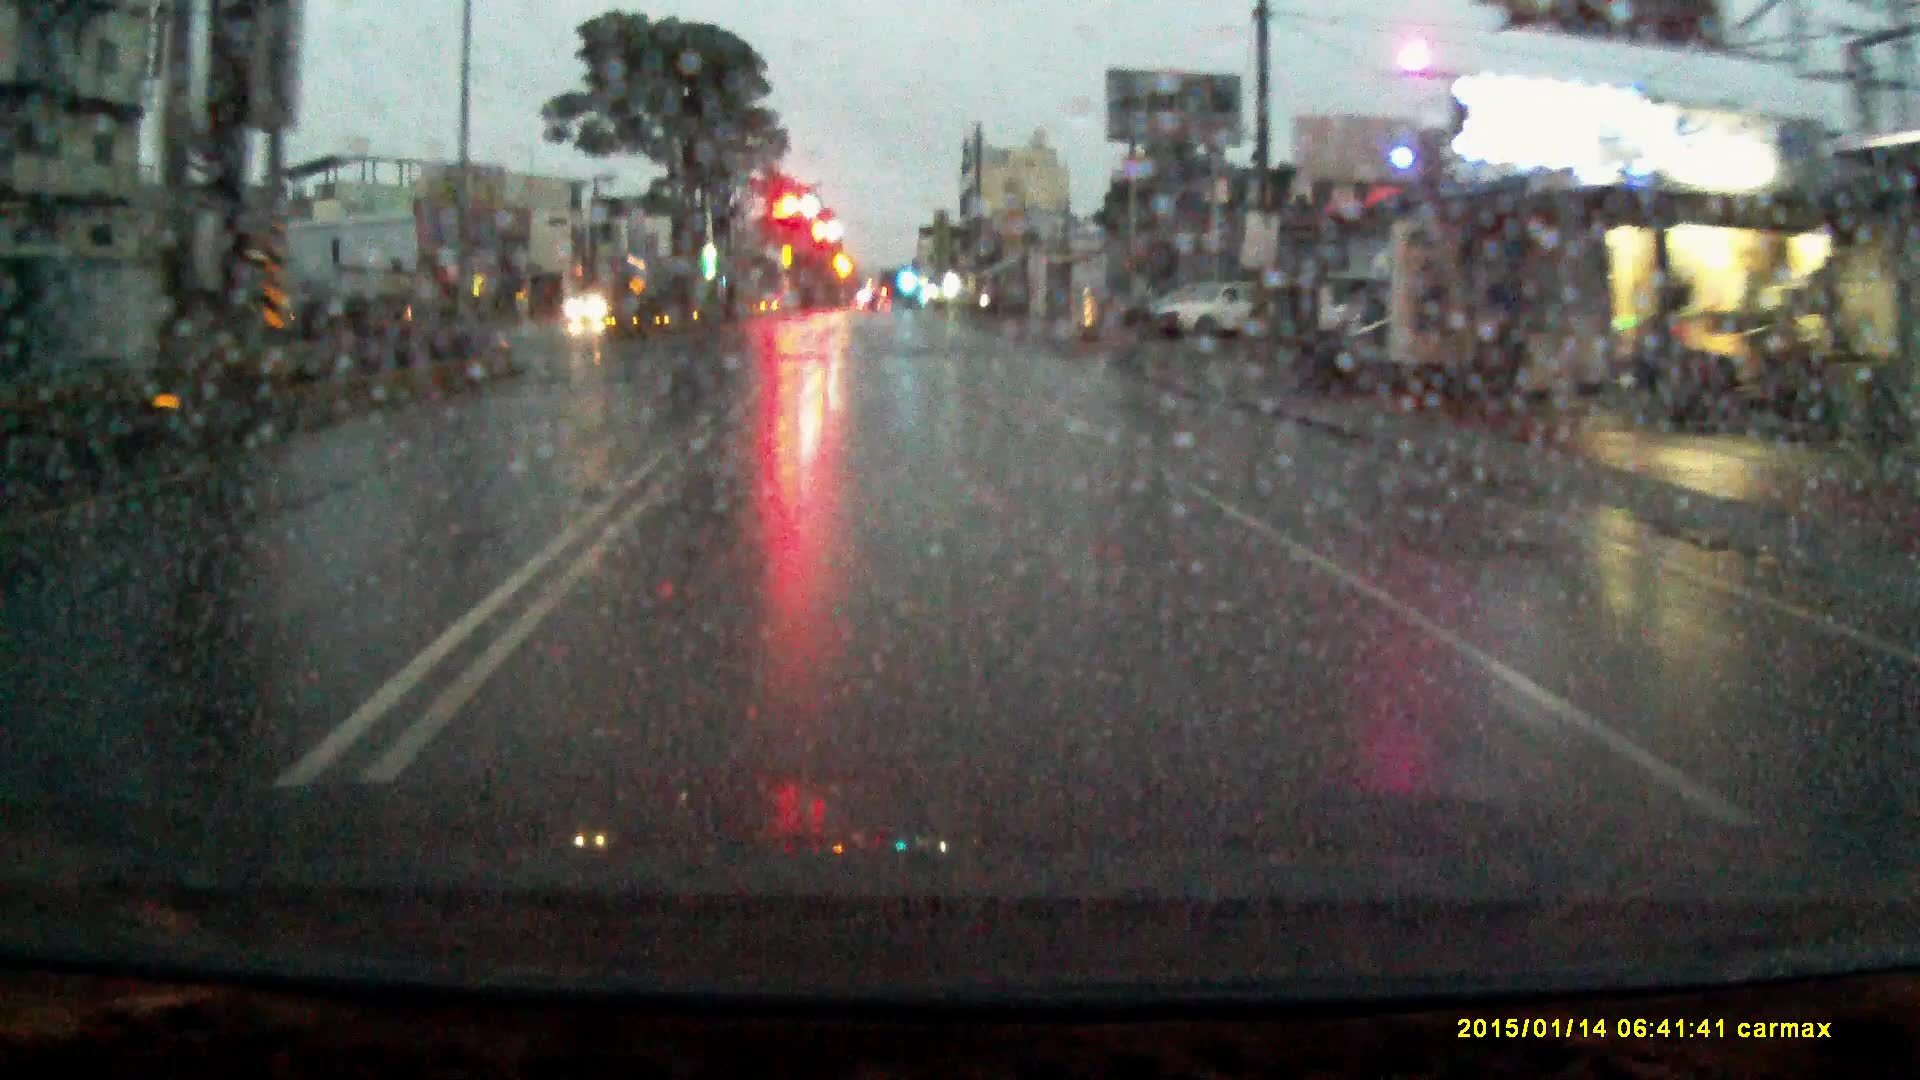vehicle: (1153, 284, 1286, 345), (568, 294, 618, 330)
